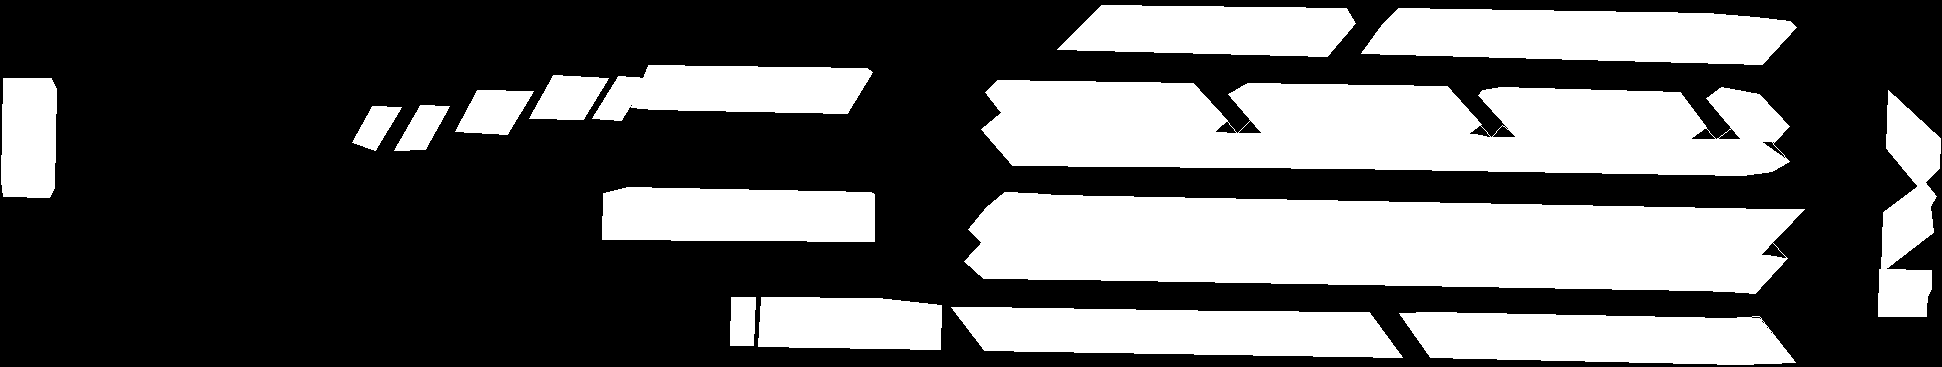parkingspot: (964, 224, 1787, 293), (969, 192, 1805, 259), (981, 113, 1788, 175), (1361, 7, 1796, 64), (951, 307, 1402, 357), (1400, 312, 1795, 365), (1056, 5, 1355, 56), (602, 187, 874, 241), (1229, 83, 1481, 138), (985, 81, 1227, 136), (1478, 87, 1705, 143), (630, 64, 872, 113), (758, 298, 941, 348), (1, 78, 56, 197), (1886, 91, 1940, 188), (1881, 181, 1936, 272), (1705, 87, 1788, 143), (529, 74, 608, 119), (455, 91, 533, 134), (1878, 269, 1931, 316), (394, 105, 450, 150), (592, 76, 647, 120), (352, 105, 401, 150), (729, 298, 755, 345)
